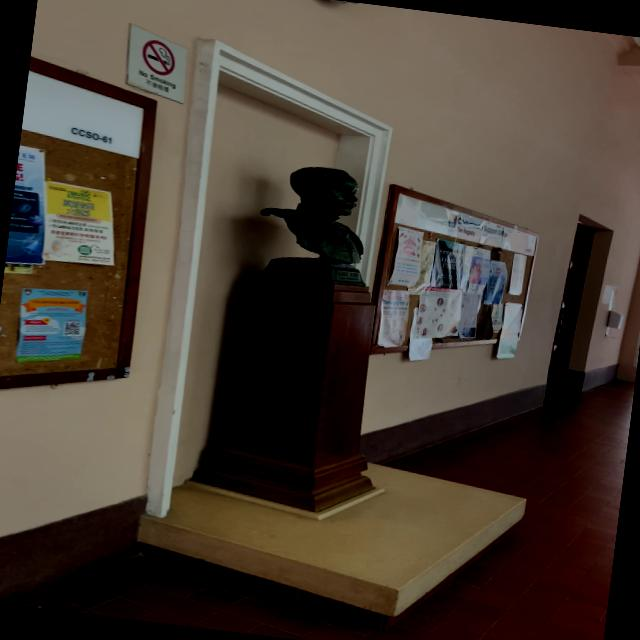statues: (243, 155, 389, 296)
